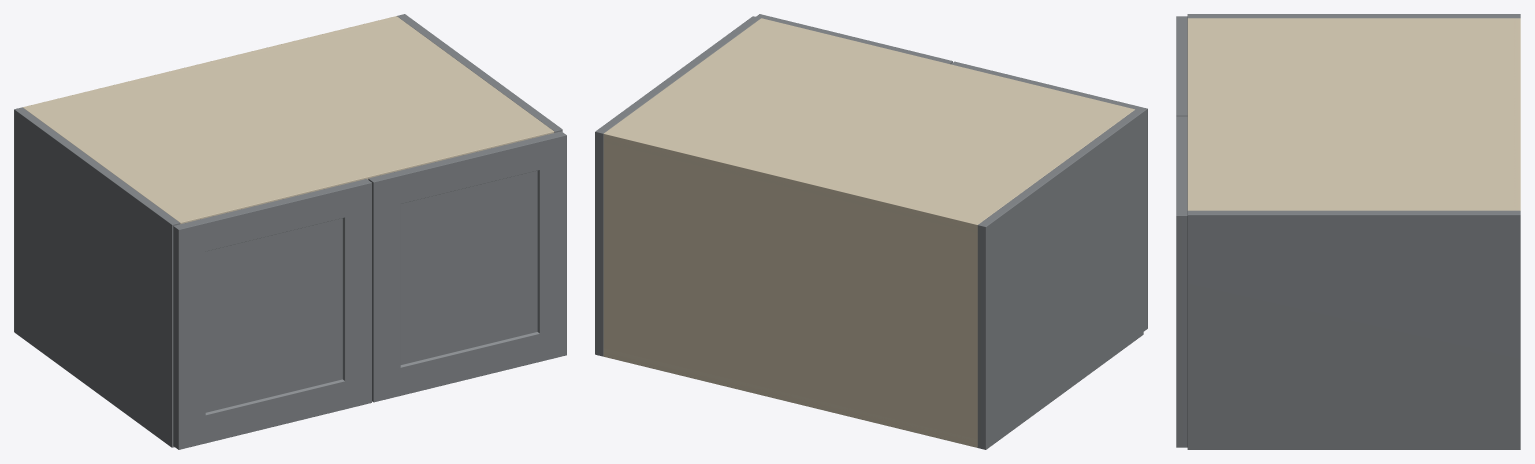
Rendered from oppein-ply-gss-w331824.glb.
3 views of the same model, side by side, from view 1: azimuth 30°, elevation 25°; view 2: azimuth 150°, elevation 25°; view 3: azimuth 270°, elevation 25° (orthographic). The views are drawn at different scales.
Visible parts, largest first — view 1: Cabinet top, Door, Door.001, Cabinet side, Cabinet side.001, Cabinet back; view 2: Cabinet back, Cabinet top, Cabinet side, Cabinet side.001, Cabinet bottom, Door, Door.001; view 3: Cabinet side.001, Cabinet top, Door.001, Cabinet side, Cabinet back, Door.
Boxes of the visible parts, x1,y1,x2,y2 form: Cabinet top: [23, 18, 554, 224]; Door: [173, 179, 371, 449]; Door.001: [368, 131, 566, 402]; Cabinet side: [14, 107, 180, 447]; Cabinet side.001: [397, 14, 562, 132]; Cabinet back: [23, 16, 399, 109]; Cabinet back: [603, 132, 979, 447]; Cabinet top: [603, 18, 1134, 232]; Cabinet side: [977, 109, 1143, 449]; Cabinet side.001: [595, 16, 760, 356]; Cabinet bottom: [603, 348, 977, 447]; Door: [951, 61, 1147, 331]; Door.001: [756, 14, 952, 64]; Cabinet side.001: [1187, 210, 1520, 449]; Cabinet top: [1187, 18, 1520, 210]; Door.001: [1176, 116, 1187, 447]; Cabinet side: [1187, 14, 1520, 18]; Cabinet back: [1514, 18, 1520, 210]; Door: [1176, 16, 1187, 116].
Size of the model in its own units: 0.8382 by 0.4572 by 0.6064.
